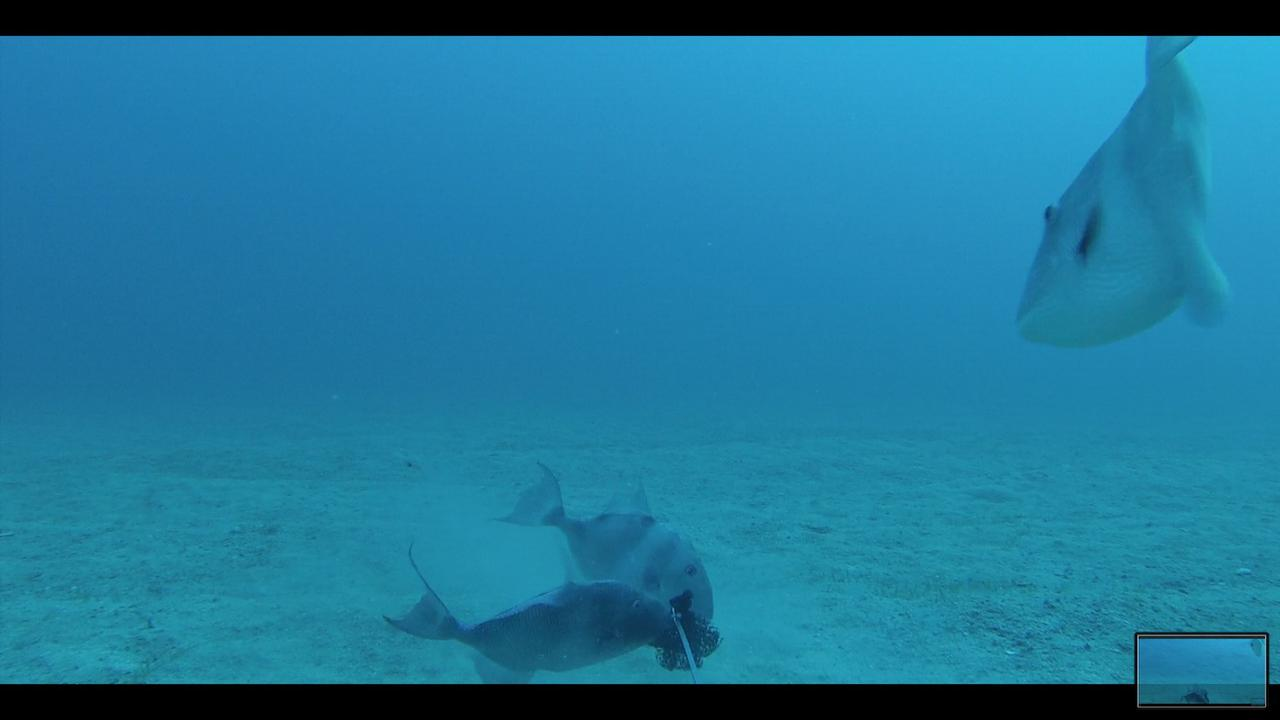balistes: (1010, 36, 1232, 353), (381, 539, 667, 684), (486, 457, 716, 622)
